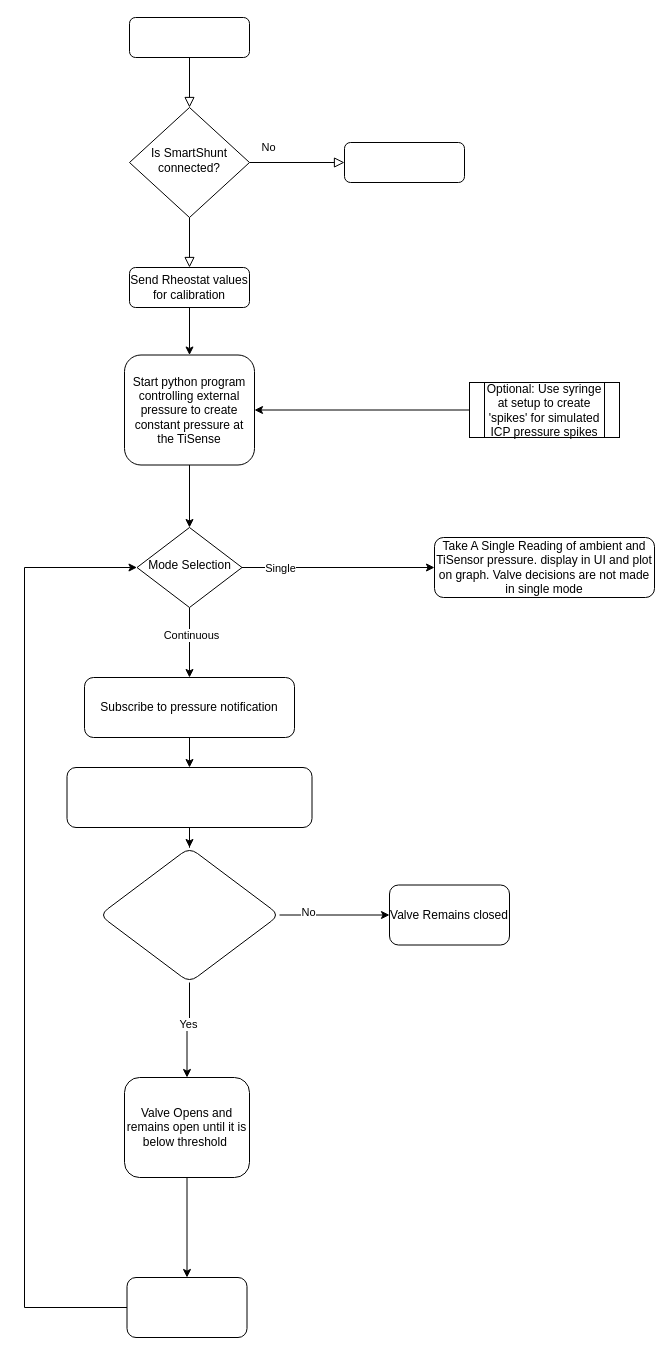
Image size: 672x1355. Some labels were removed from this diagram. The shapes that lost their labels are listed below. From the top down, each one's centre as x and y in pixels, then its label:
(x=189, y=37): SmartShunt is on and advertising
(x=404, y=162): Continue Advertising
(x=189, y=797): Take ICP Avg and subtract Pamb. Plot each sample
(x=189, y=914): Is pressure above threshold?
(x=186, y=1307): Valve Closes and user is asked again for continuous or single mode reading
